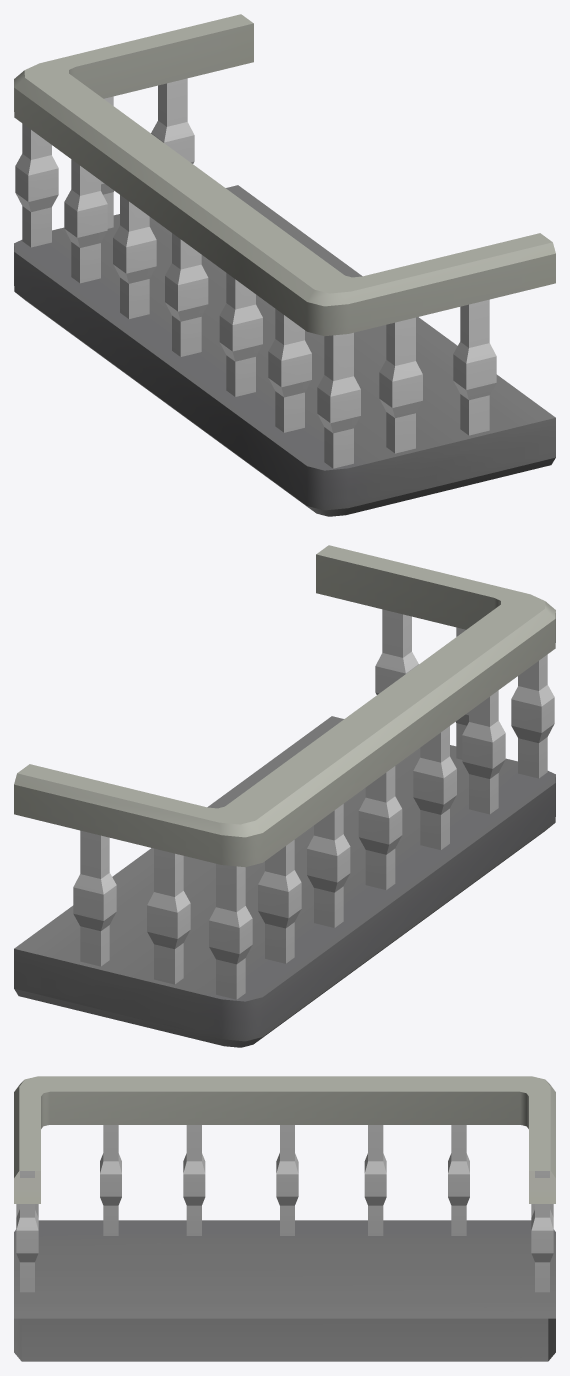
The model's file is Balcon_2_1_A.fbx.
3 views of the same model, one above another, from view 1: azimuth 30°, elevation 25°; view 2: azimuth 150°, elevation 25°; view 3: azimuth 270°, elevation 25° (orthographic). The views are drawn at different scales.
Parts seen in each view (by area): view 1: Balcon_2_1_A; view 2: Balcon_2_1_A; view 3: Balcon_2_1_A.
Boxes of the visible parts, <box> form: Balcon_2_1_A: <box>14,14,555,516</box>; Balcon_2_1_A: <box>14,545,555,1047</box>; Balcon_2_1_A: <box>14,1076,555,1361</box>.
Size of the model in its own units: 100 by 90.92 by 234.
